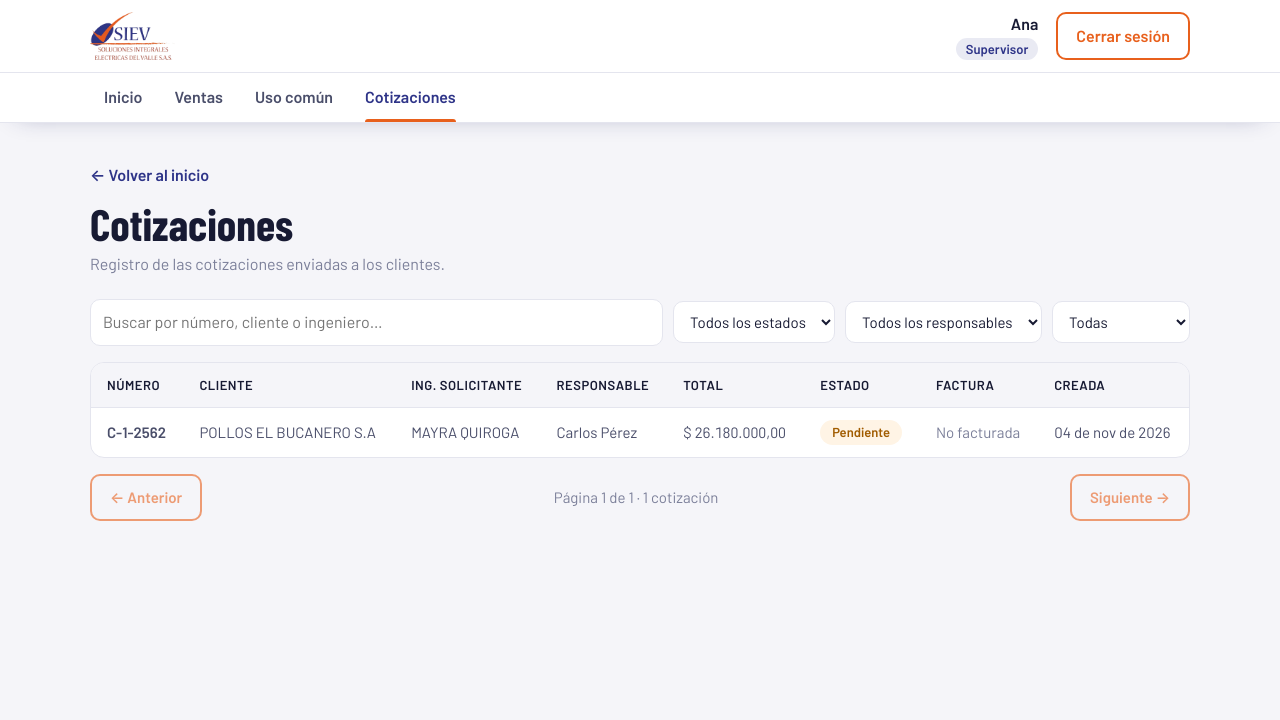
Scenario: lista de cotizaciones › un TÉCNICO (solo ver) no ve botones de crear, editar, estado ni eliminar
Click the text "C-1-2562": (136, 432) [107,423,166,441]
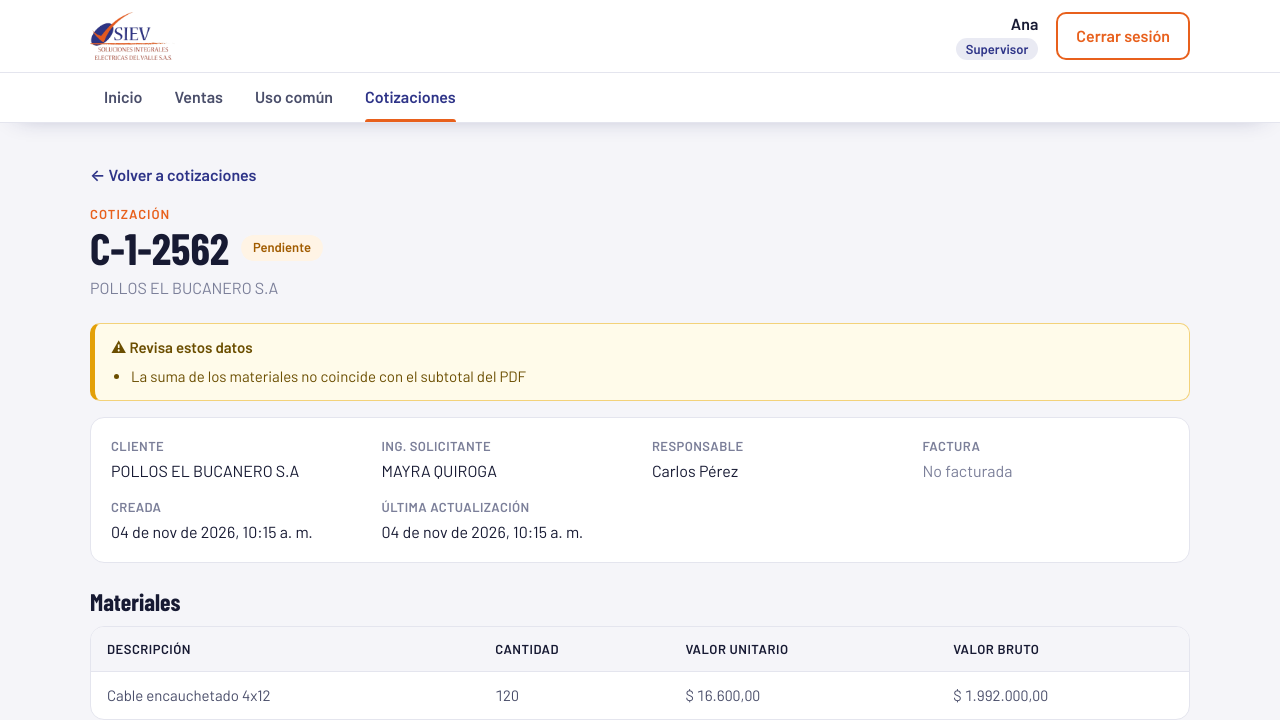
Check: the text "Cable encauchetado 4x12" is shown, box [91,671,479,719]
